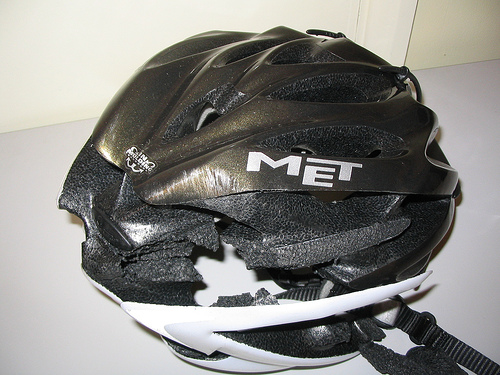helmet: (84, 42, 453, 305)
